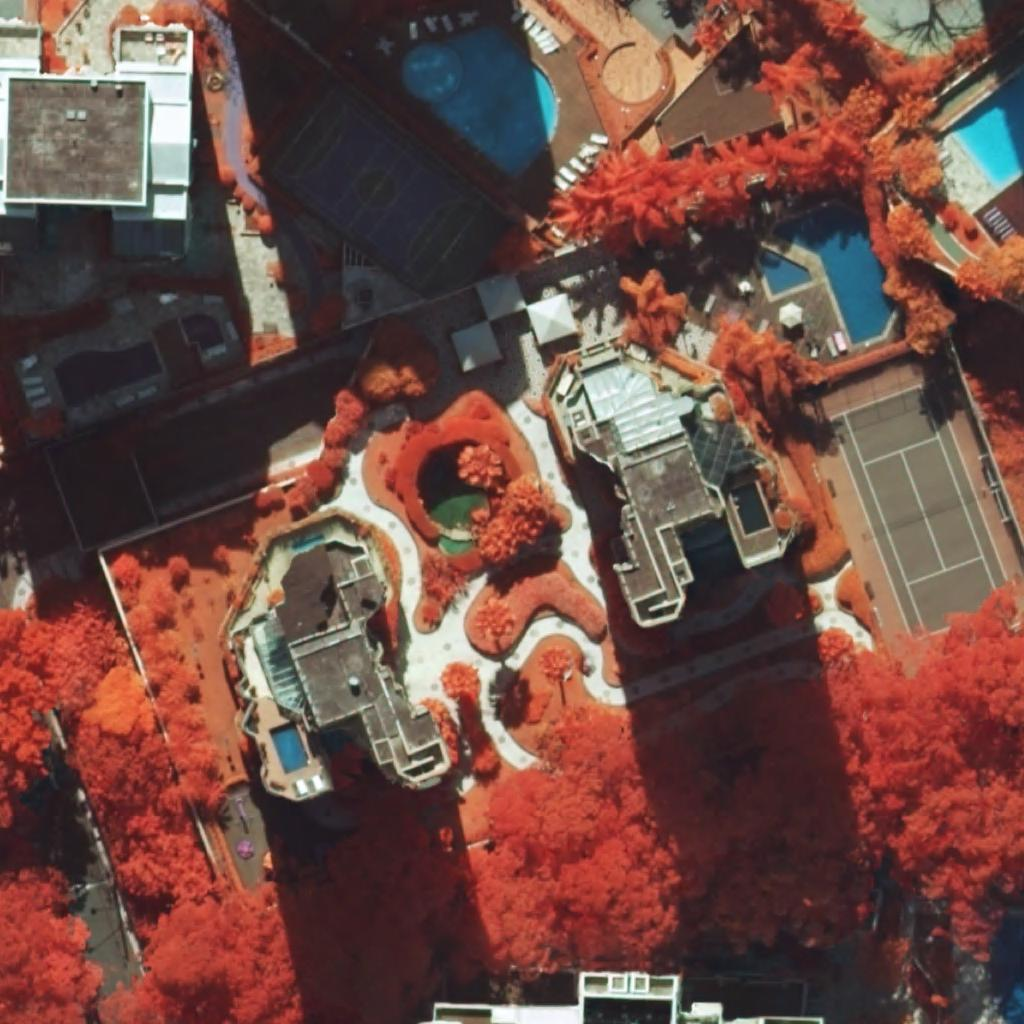pool: (402, 25, 557, 178), (772, 203, 897, 345), (949, 69, 1024, 187), (52, 341, 163, 408), (991, 917, 1024, 1024), (760, 249, 813, 296), (730, 482, 771, 536), (270, 721, 309, 774), (181, 314, 225, 353)
